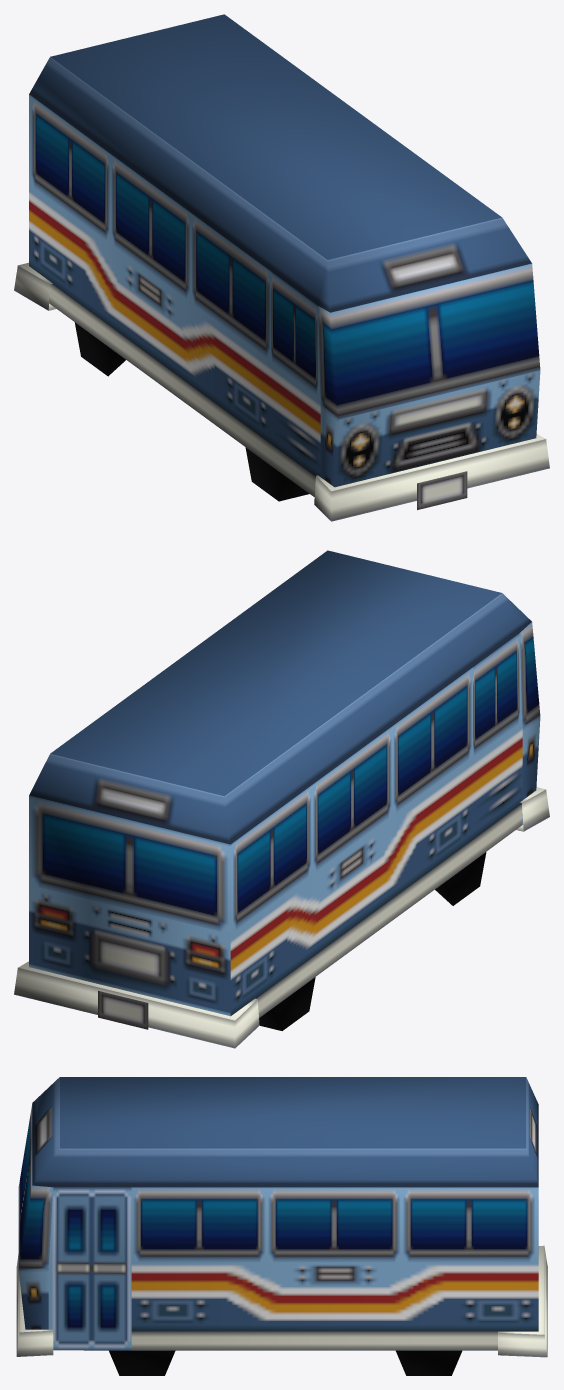
Rendered from MR_stage4-bus_a.glb.
The picture shows the model from 3 angles, top to bottom: view 1: azimuth 30°, elevation 25°; view 2: azimuth 150°, elevation 25°; view 3: azimuth 270°, elevation 25°; orthographic projection. The views are drawn at different scales.
Parts seen in each view (by area): view 1: bus_a; view 2: bus_a; view 3: bus_a.
Part boxes in pixels (x1,y1,x2,y2): bus_a: (14,14,549,521); bus_a: (14,550,549,1048); bus_a: (16,1077,547,1375).
Bounding box in the file's own units: 2.91 × 3.32 × 7.28.
Materials: 1 (1 with a texture image).
